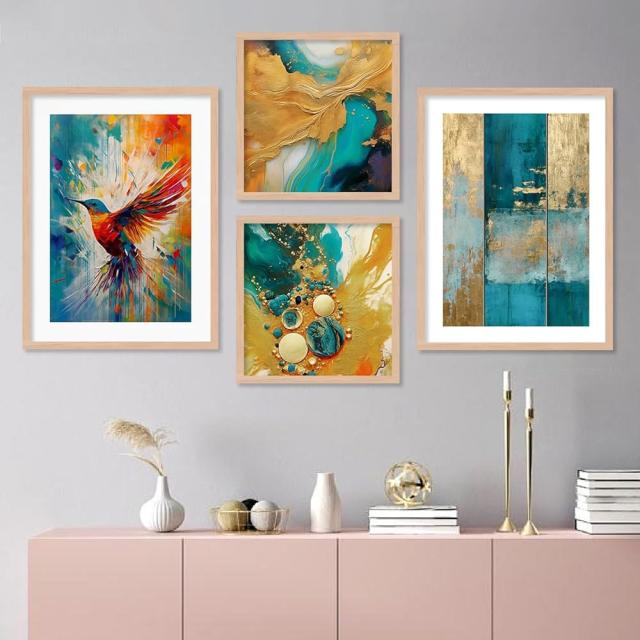painting: (21, 86, 218, 350), (414, 86, 611, 350), (234, 29, 399, 199), (236, 214, 401, 382)
